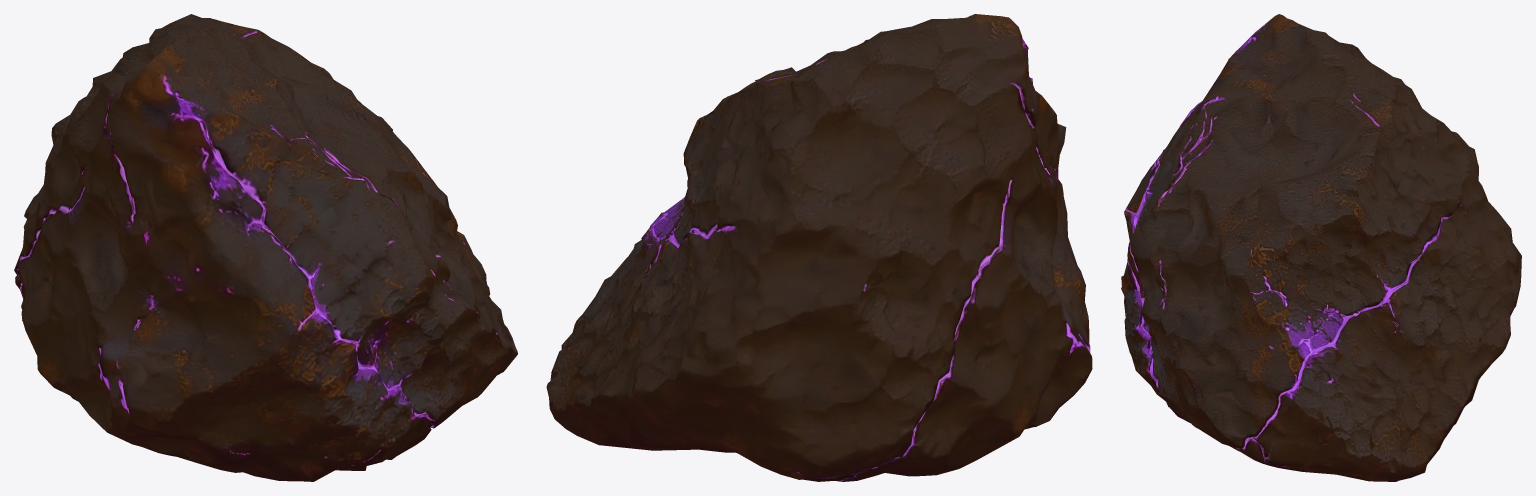
File: close.glb
The picture shows the model from 3 angles, left to right: view 1: azimuth 30°, elevation 25°; view 2: azimuth 150°, elevation 25°; view 3: azimuth 270°, elevation 25°; orthographic projection. The views are drawn at different scales.
Visible parts, largest first — view 1: node_a7b85540-55f3-4247-a4ff-cff303ea4854; view 2: node_a7b85540-55f3-4247-a4ff-cff303ea4854; view 3: node_a7b85540-55f3-4247-a4ff-cff303ea4854.
Part boxes in pixels (x1,y1,x2,y2): node_a7b85540-55f3-4247-a4ff-cff303ea4854: (14, 14, 517, 481); node_a7b85540-55f3-4247-a4ff-cff303ea4854: (546, 14, 1092, 481); node_a7b85540-55f3-4247-a4ff-cff303ea4854: (1121, 14, 1521, 481).
Size of the model in its own units: 0.6102 by 0.5713 by 0.5986.
Materials: 1 (1 with a texture image).
